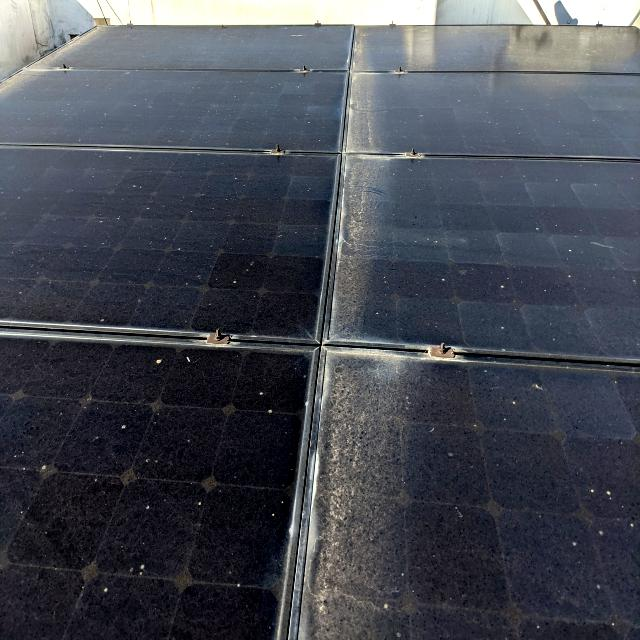dust: (0, 358, 299, 640), (330, 358, 634, 634), (360, 160, 632, 338), (13, 163, 322, 311)
